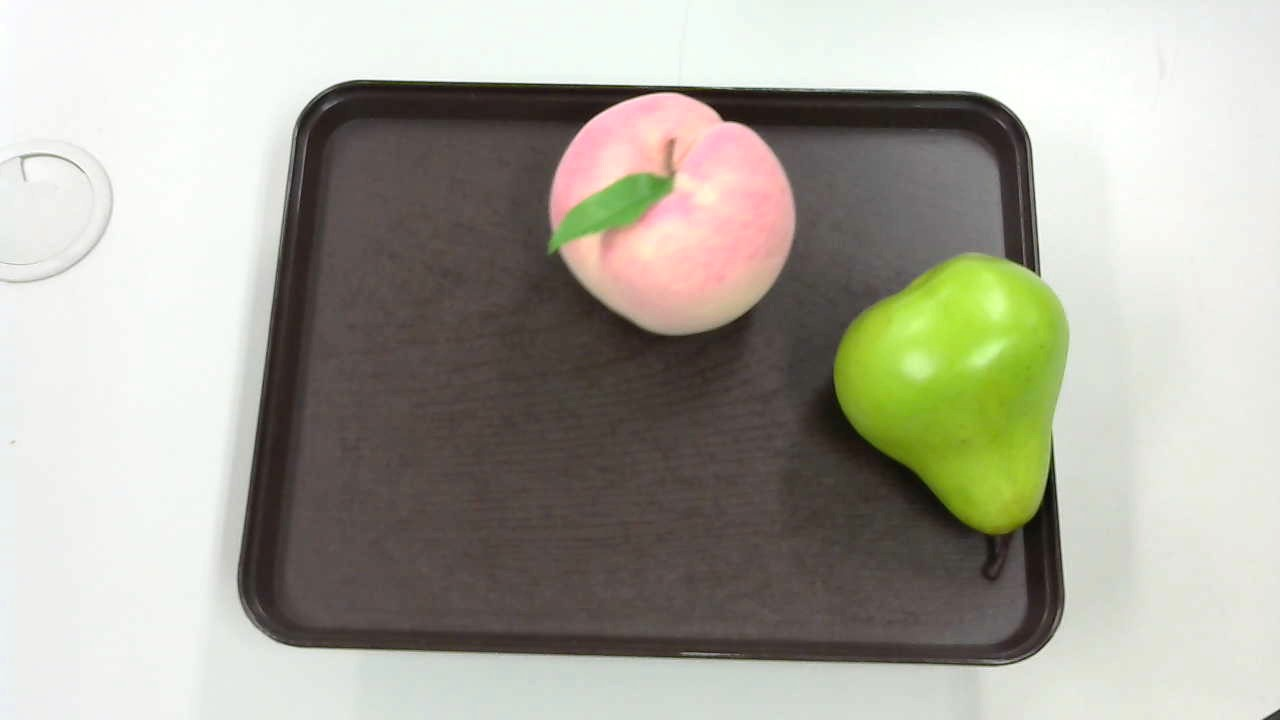green pear: (819, 246, 1077, 607)
peach: (542, 91, 793, 344)
